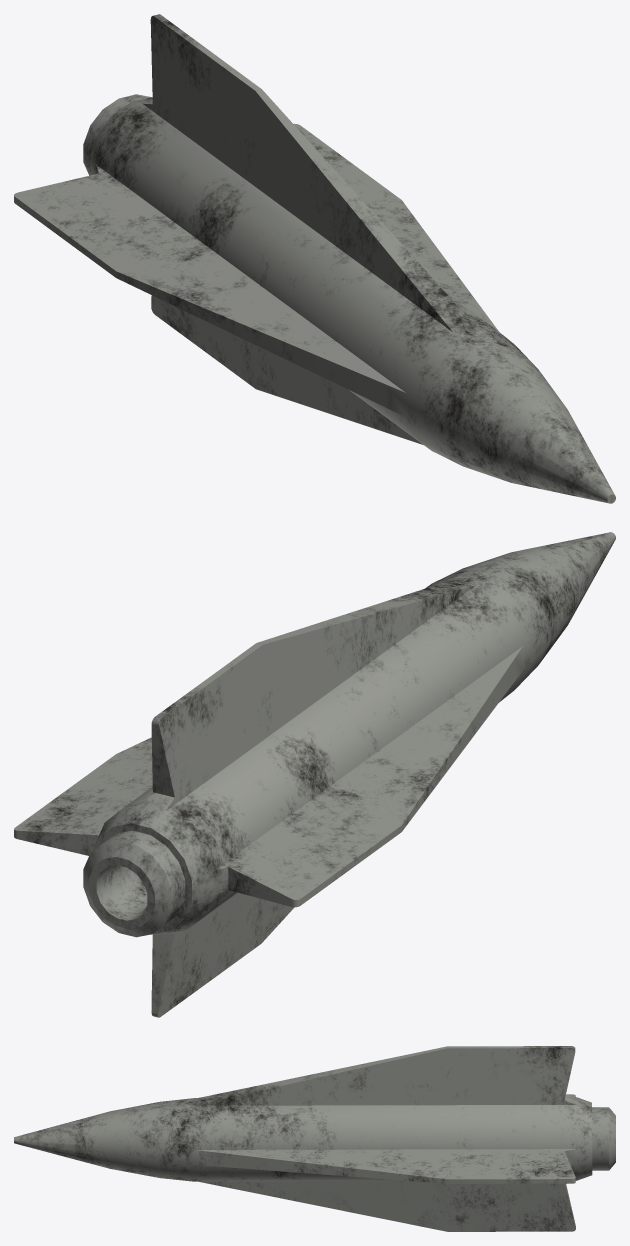
Rendered from SAMs battery.fbx.
3 views of the same model, one above another, from view 1: azimuth 30°, elevation 25°; view 2: azimuth 150°, elevation 25°; view 3: azimuth 270°, elevation 25° (orthographic). The views are drawn at different scales.
Visible parts, largest first — view 1: Missile .2; view 2: Missile .2; view 3: Missile .2.
Boxes of the visible parts, left/top/right/bottom form: Missile .2: left=14, top=14, right=615, bottom=503; Missile .2: left=14, top=532, right=615, bottom=1017; Missile .2: left=14, top=1046, right=615, bottom=1231.
Size of the model in its own units: 199 by 199 by 591.
1 material, 1 textured.
